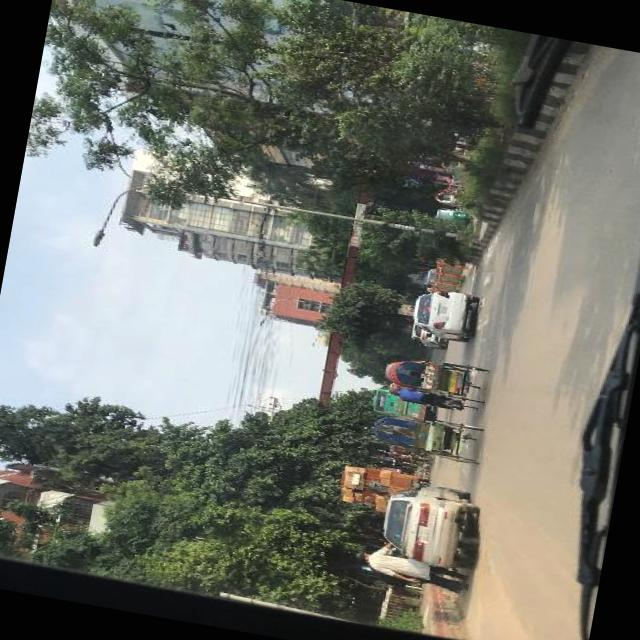bus: (367, 394, 435, 422)
car: (378, 478, 482, 570), (413, 286, 478, 338), (408, 329, 448, 350)
motorcycle: (379, 351, 488, 404), (367, 414, 482, 464), (430, 204, 472, 226), (389, 444, 434, 459), (390, 454, 430, 470), (431, 184, 460, 206)
